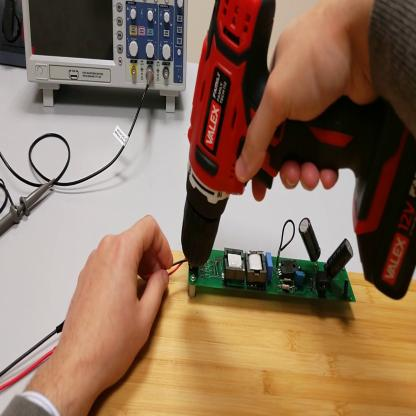electric screwdriver: (182, 1, 416, 300)
hand: (232, 2, 383, 196), (61, 218, 174, 392)
high voltage board: (145, 215, 361, 312)
oscilloscope: (22, 4, 189, 113)
oscilloscope probe tip: (1, 178, 56, 238)
socket: (2, 1, 27, 72)
working area: (87, 244, 416, 416)
